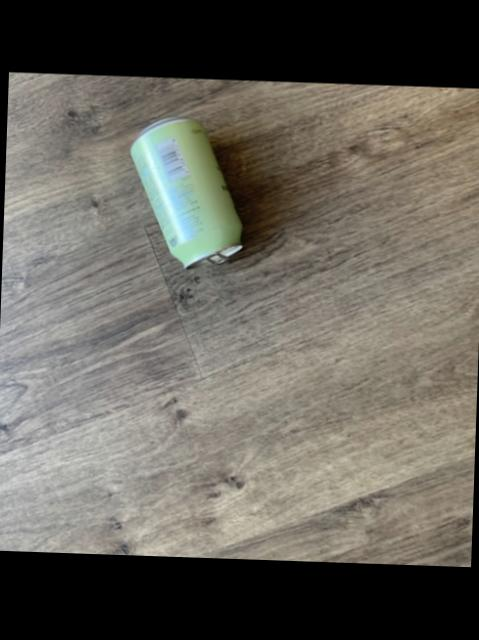metal: (132, 119, 242, 268)
